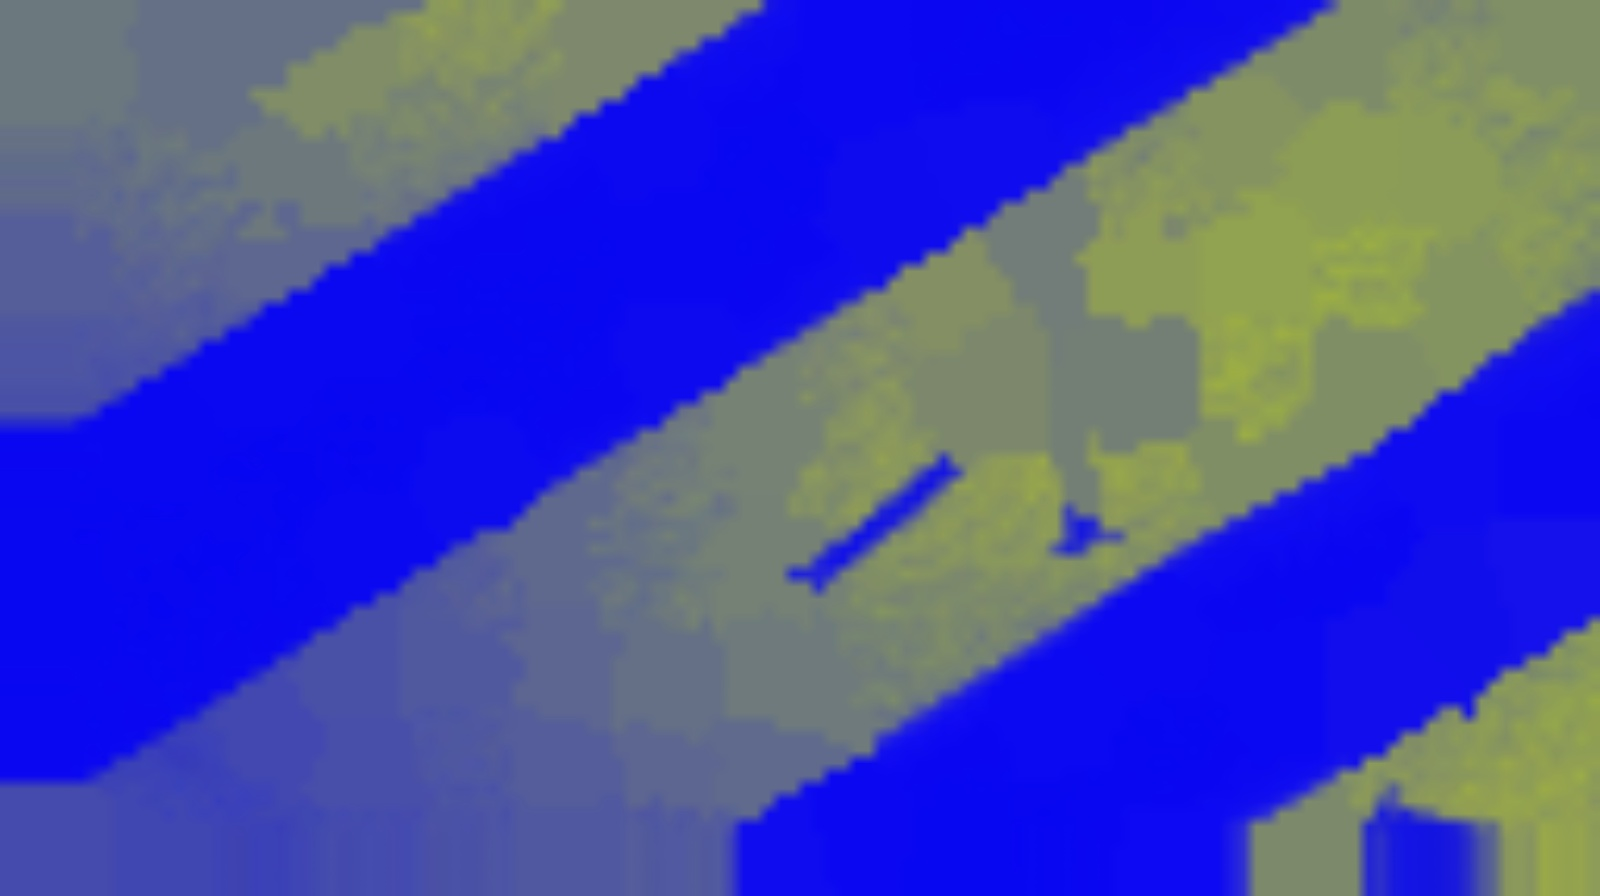S001: (748, 363, 1126, 620)
S002: (838, 231, 1291, 580)
